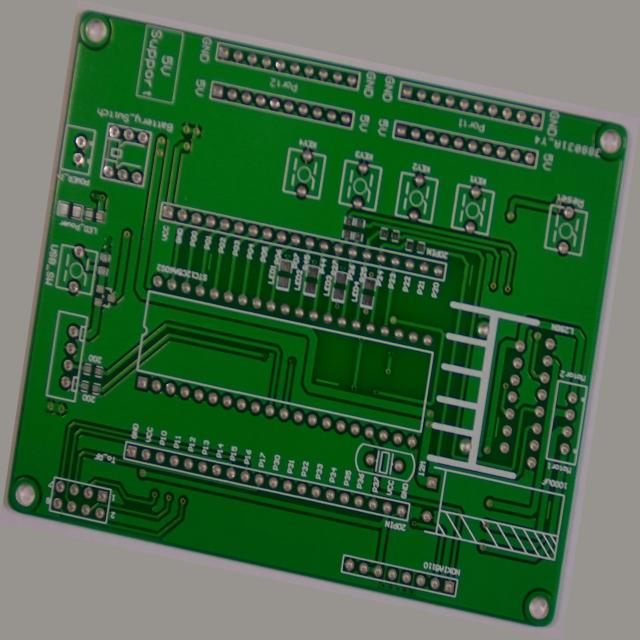spurious_copper: (471, 211, 486, 248), (323, 385, 354, 400), (526, 387, 540, 419), (182, 264, 194, 291), (598, 475, 609, 504)
